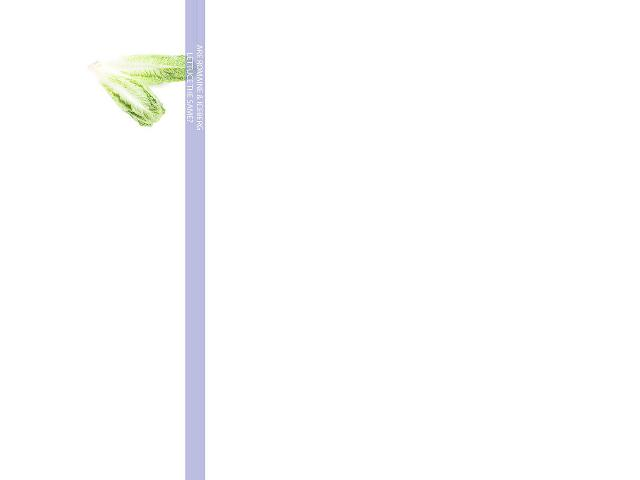lettuce: (88, 57, 171, 125)
